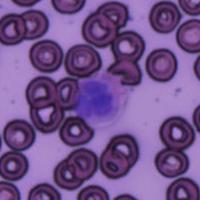N: (72, 71, 130, 125)
